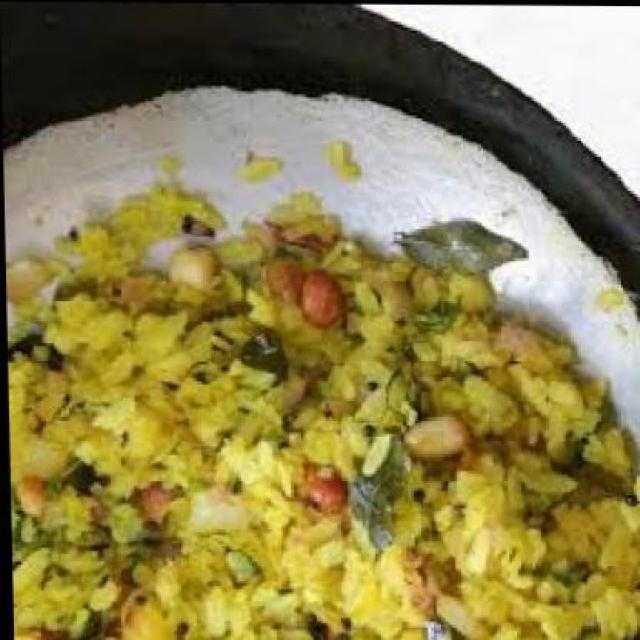poha: (3, 194, 640, 640)
